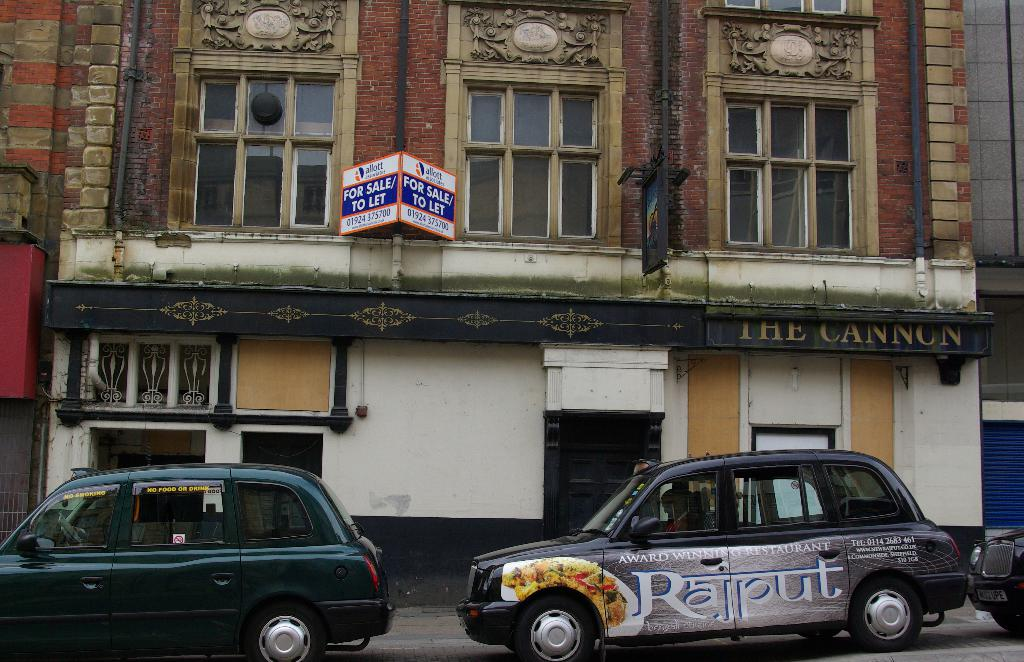Car: (455, 450, 963, 661), (0, 459, 400, 661), (963, 530, 1023, 637)
